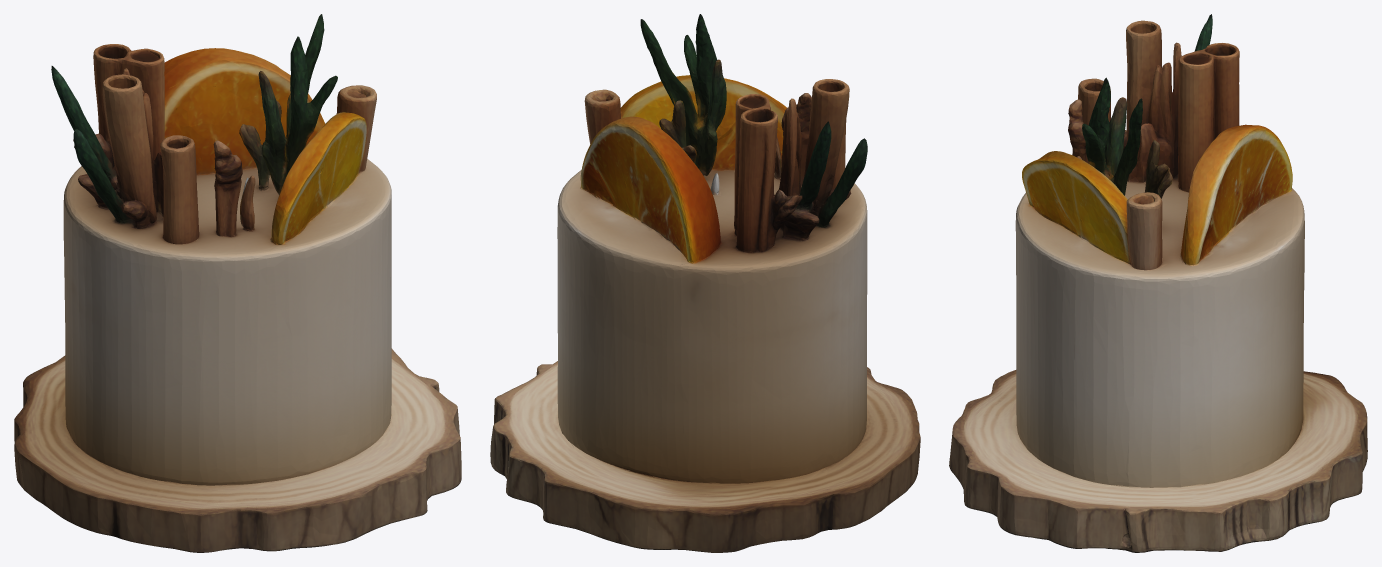
3 renders of one model, left to right at view 1: azimuth 30°, elevation 25°; view 2: azimuth 150°, elevation 25°; view 3: azimuth 270°, elevation 25°, orthographic. The views are drawn at different scales.
Parts seen in each view (by area): view 1: world; view 2: world; view 3: world.
Boxes of the visible parts, box(x1,y1,x2,y2) form: world: box(14, 14, 461, 552); world: box(490, 14, 920, 552); world: box(949, 14, 1367, 552).
Bounding box in the file's own units: 0.9137 × 0.9937 × 0.93.
Materials: 1 (1 with a texture image).
